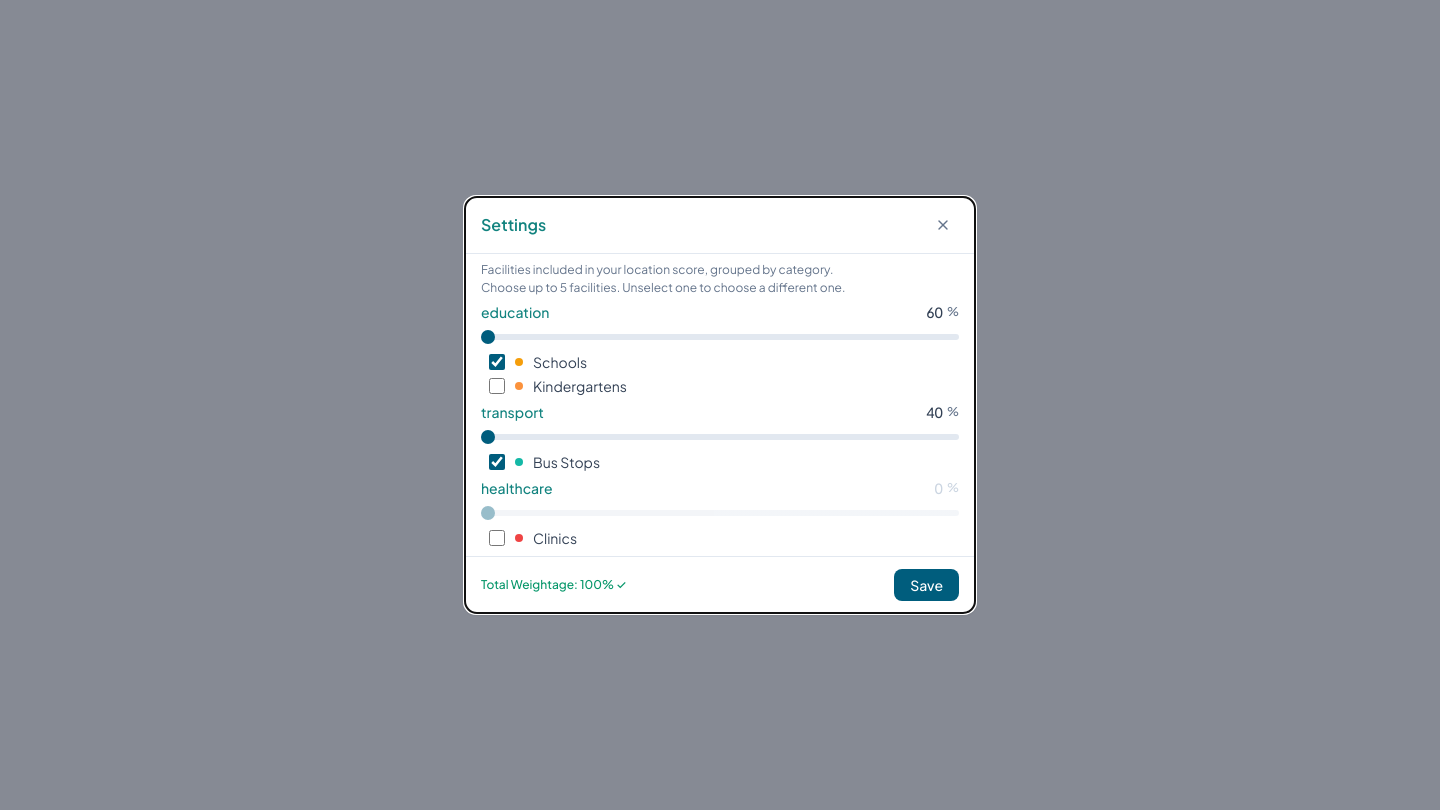
Test: SettingsModal › Weight sliders › preserves existing weights and initializes new categories to 0 when toggling on
The width and height of the screenshot is (1440, 810).
Set the slider named "education" to "80": x=859, y=337 [481,334,959,340]
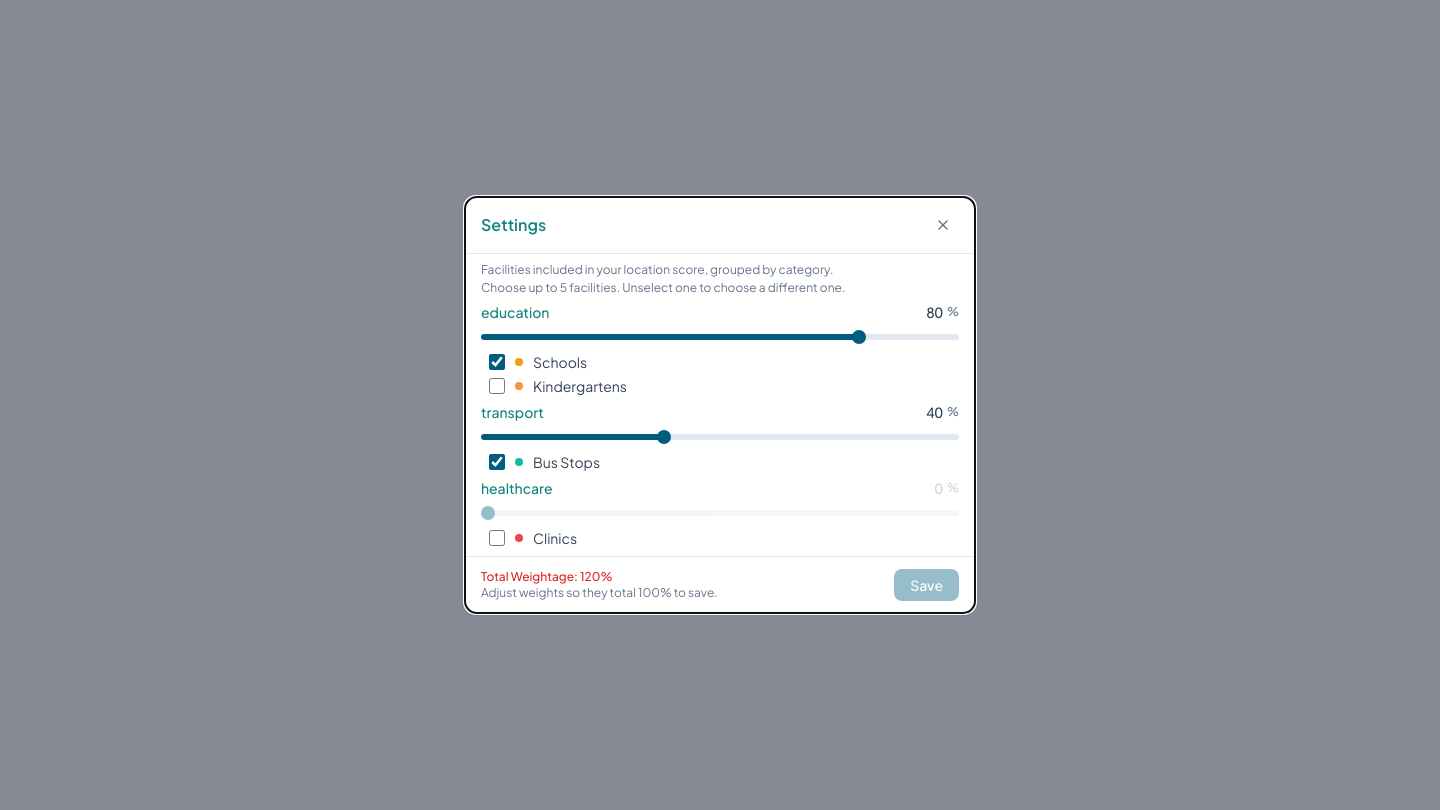
Click the checkbox labelled "Clinics": x=497, y=538 [489,530,505,546]
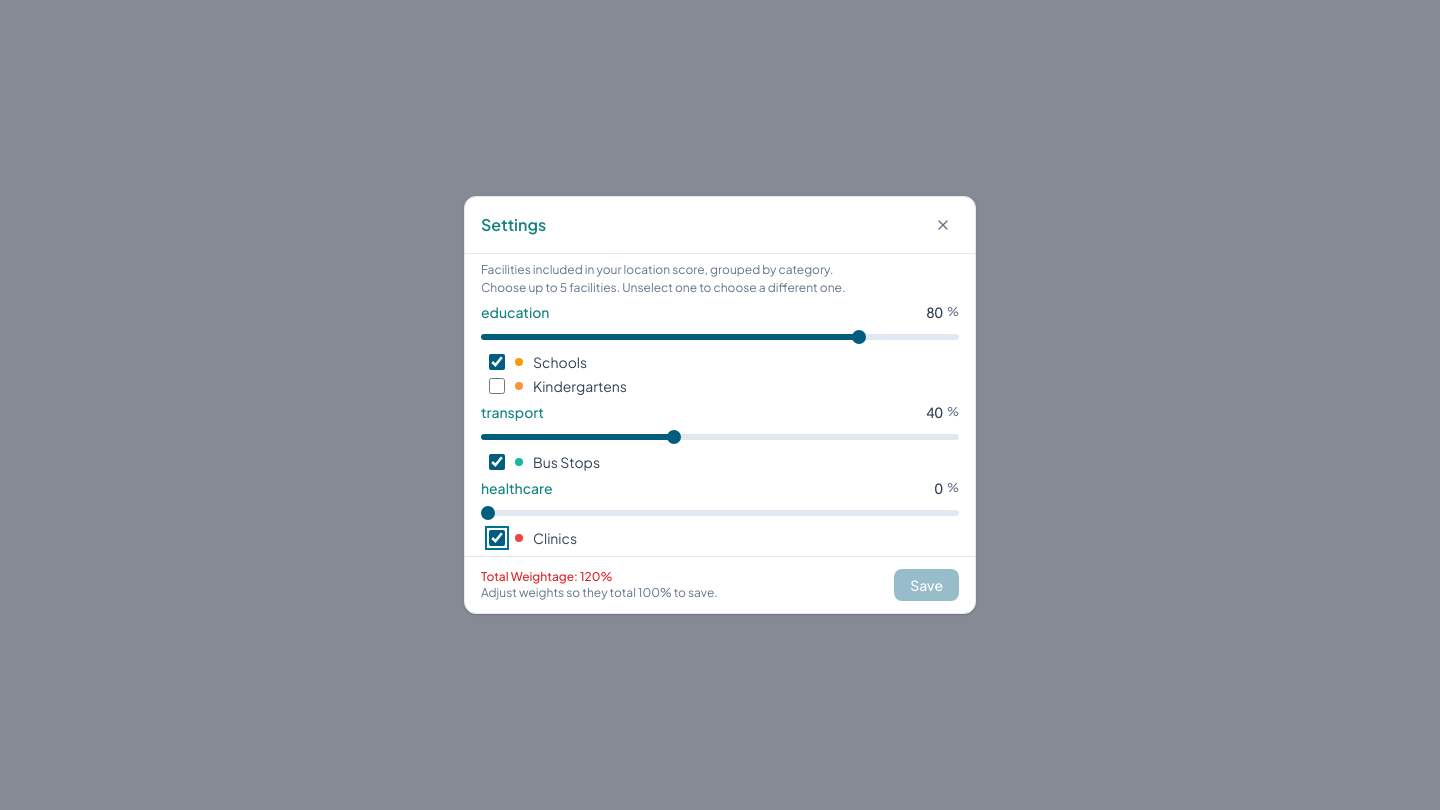
Check: the slider named "healthcare" holds "0", box [481,510,959,516]
Check: the text "Total Weightage: 120%" is shown, box [481,569,612,584]
Check: the slider named "transport" holds "40", box [481,434,959,440]
